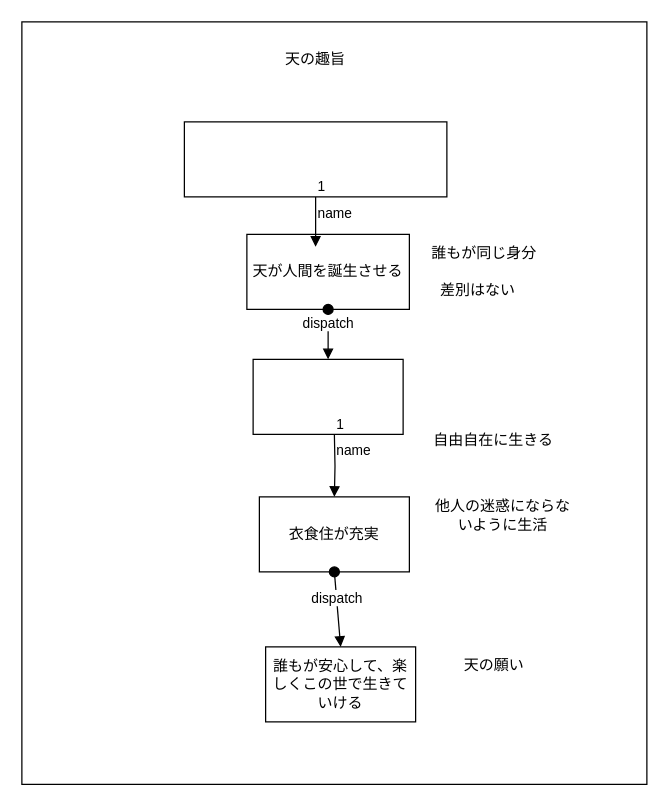
Some shapes in this 669 by 806 pixel diagram are drawn without their labels. The centre of each missing label's shape, as x and y in pixels:
"天は人の上に人を造らず、人の下に人を造らず" belongs at point 315,159.
"天地の間にあるものすべてを活用" belongs at point 327,396.
